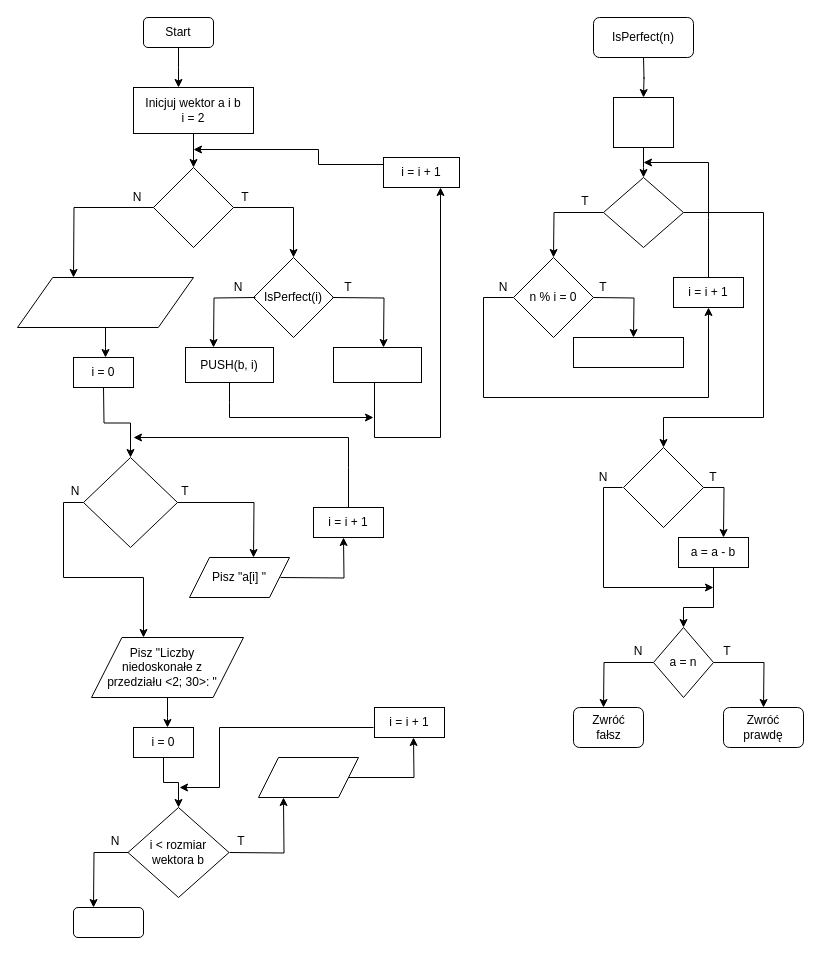
Some shapes in this 821 by 955 pixel diagram are drawn without their labels. The shapes that lost their labels are listed below. From the top down, each one's box as (x1, y1, x2, y2) in pixels, then its label:
(612, 96, 674, 148): a = 1 b = √n i = 2
(152, 166, 234, 248): i <= 30
(602, 176, 684, 248): i <= b
(16, 276, 194, 328): Pisz "Liczby doskonałe z przedzialu <2; 30>: "
(332, 346, 422, 382): PUSH(a, i)
(572, 336, 684, 368): a = a + (i + n / i)
(82, 456, 178, 548): i < rozmiar wektora a
(622, 446, 704, 528): n = b^2
(258, 756, 358, 798): Pisz "b[i] "
(72, 906, 144, 938): Stop
